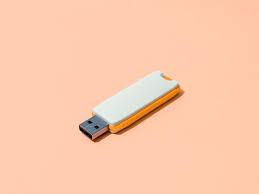Flash-drive: (49, 67, 215, 152)
